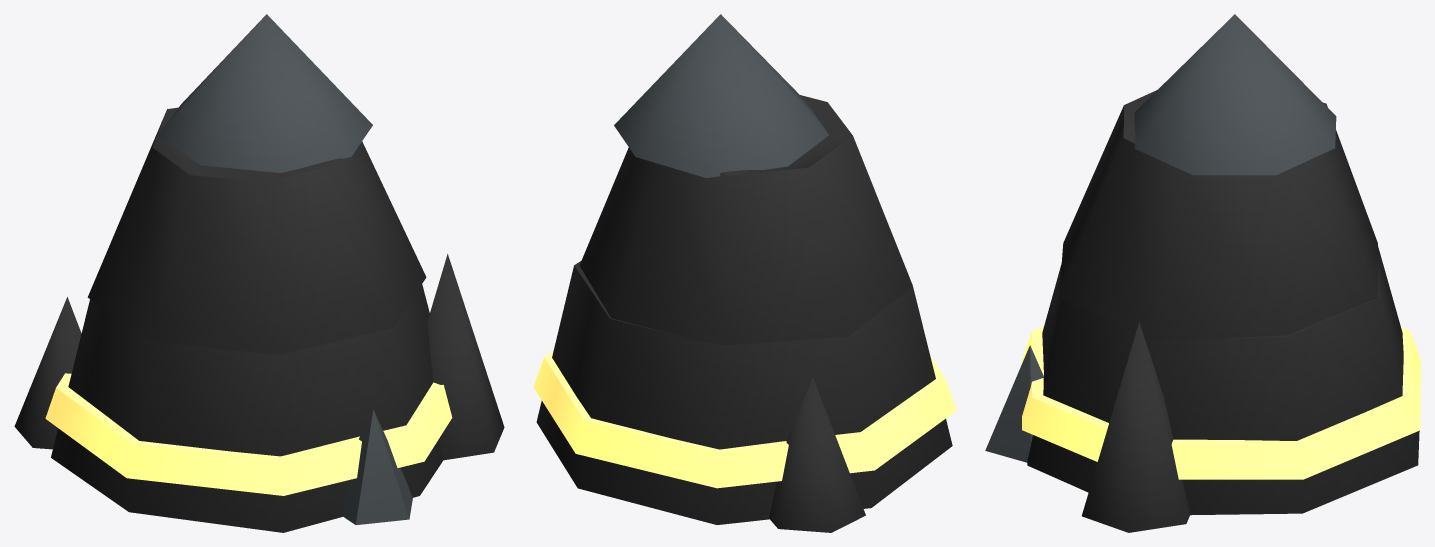
The model's file is obsidian_pillar.glb.
3 views of the same model, side by side, from view 1: azimuth 30°, elevation 25°; view 2: azimuth 150°, elevation 25°; view 3: azimuth 270°, elevation 25° (orthographic).
Parts seen in each view (by area): view 1: obsidian_pillar; view 2: obsidian_pillar; view 3: obsidian_pillar.
Part boxes in pixels (box(x1,y1,x2,y2)): obsidian_pillar: box(14, 14, 504, 532); obsidian_pillar: box(533, 14, 956, 532); obsidian_pillar: box(985, 14, 1420, 532).
Size of the model in its own units: 3.22 by 3.47 by 3.19.
Materials: 2 (1 with a texture image).
